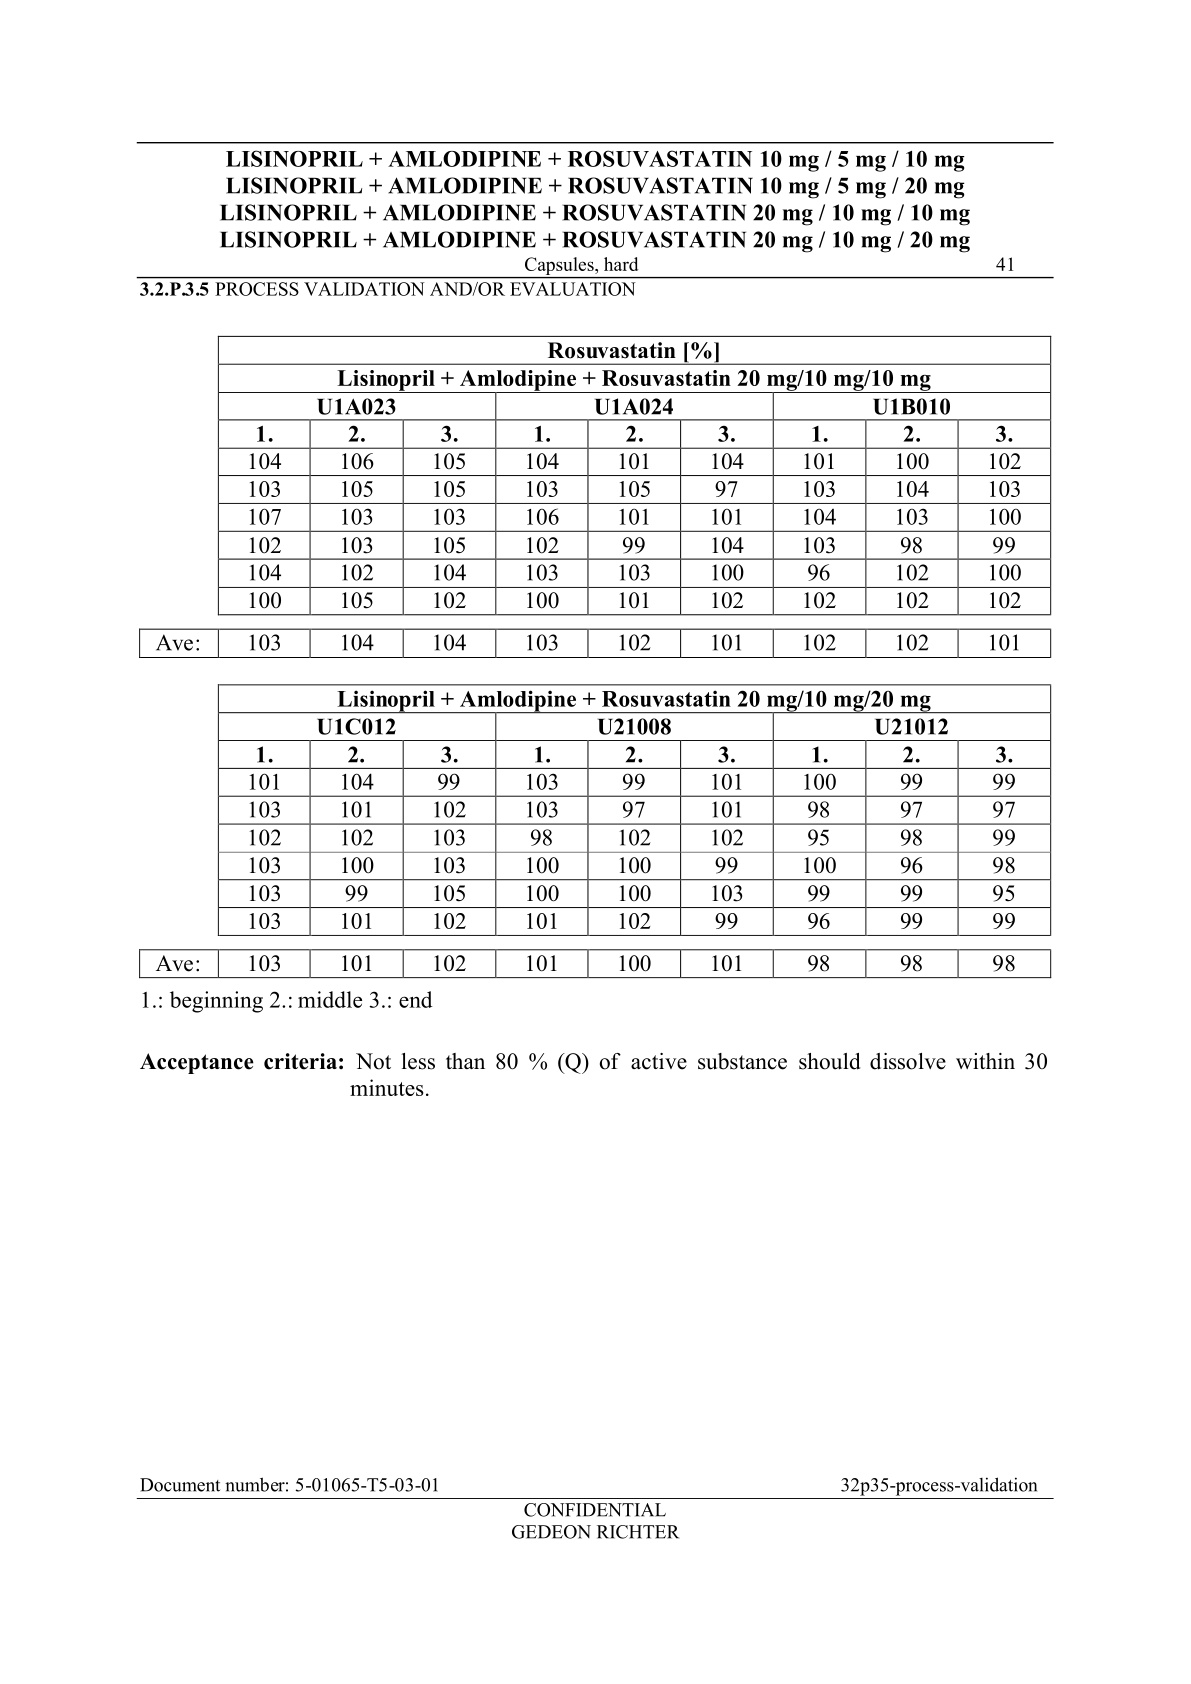full_lined: (138, 627, 1051, 658), (138, 948, 1052, 978)
merged_cells: (217, 335, 1052, 616), (217, 683, 1051, 937)
